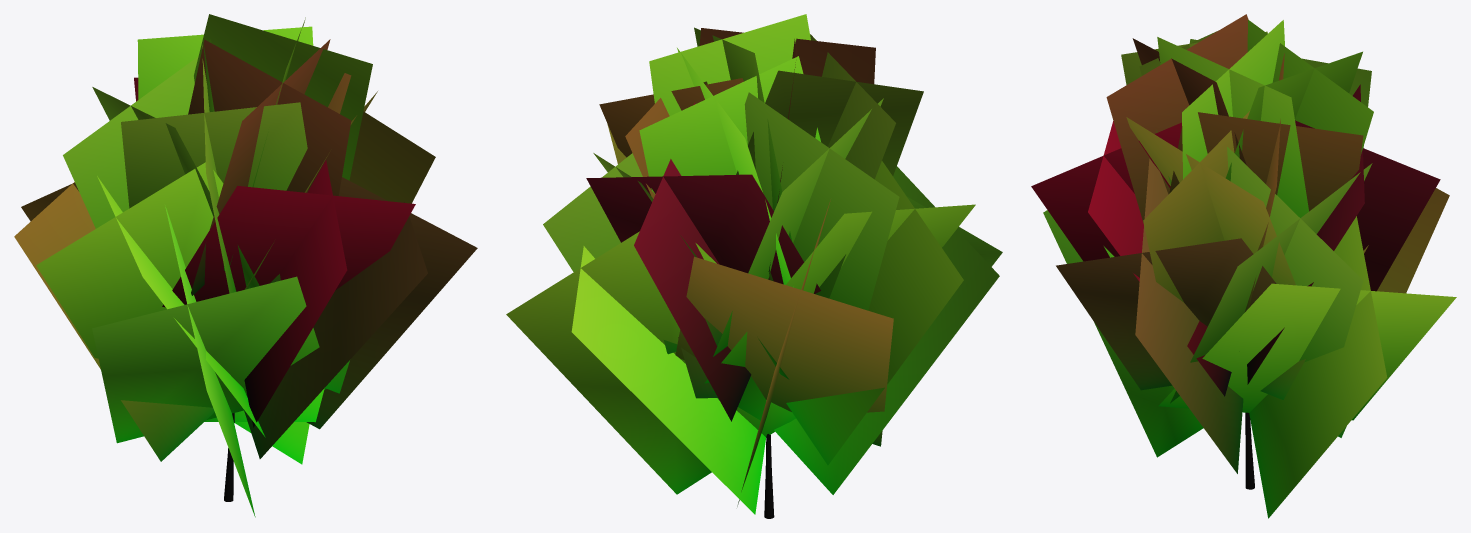
The model's file is Bush_5_3.fbx.
The picture shows the model from 3 angles, left to right: view 1: azimuth 30°, elevation 25°; view 2: azimuth 150°, elevation 25°; view 3: azimuth 270°, elevation 25°; orthographic projection. The views are drawn at different scales.
Visible parts, largest first — view 1: _13; view 2: _13; view 3: _13.
Part boxes in pixels (<box>): _13: <box>14,14,477,517</box>; _13: <box>506,14,1002,518</box>; _13: <box>1031,14,1456,518</box>.
Size of the model in its own units: 568 by 668 by 552.
